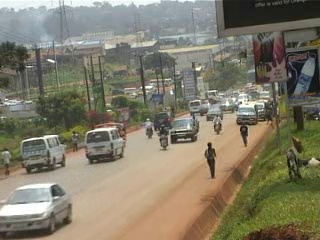Car: (0, 181, 75, 237), (168, 115, 200, 144), (148, 110, 176, 134), (205, 103, 224, 123), (218, 96, 236, 114), (198, 100, 213, 116)
Motorcycle: (154, 122, 171, 152), (210, 110, 223, 135), (143, 115, 154, 139)
